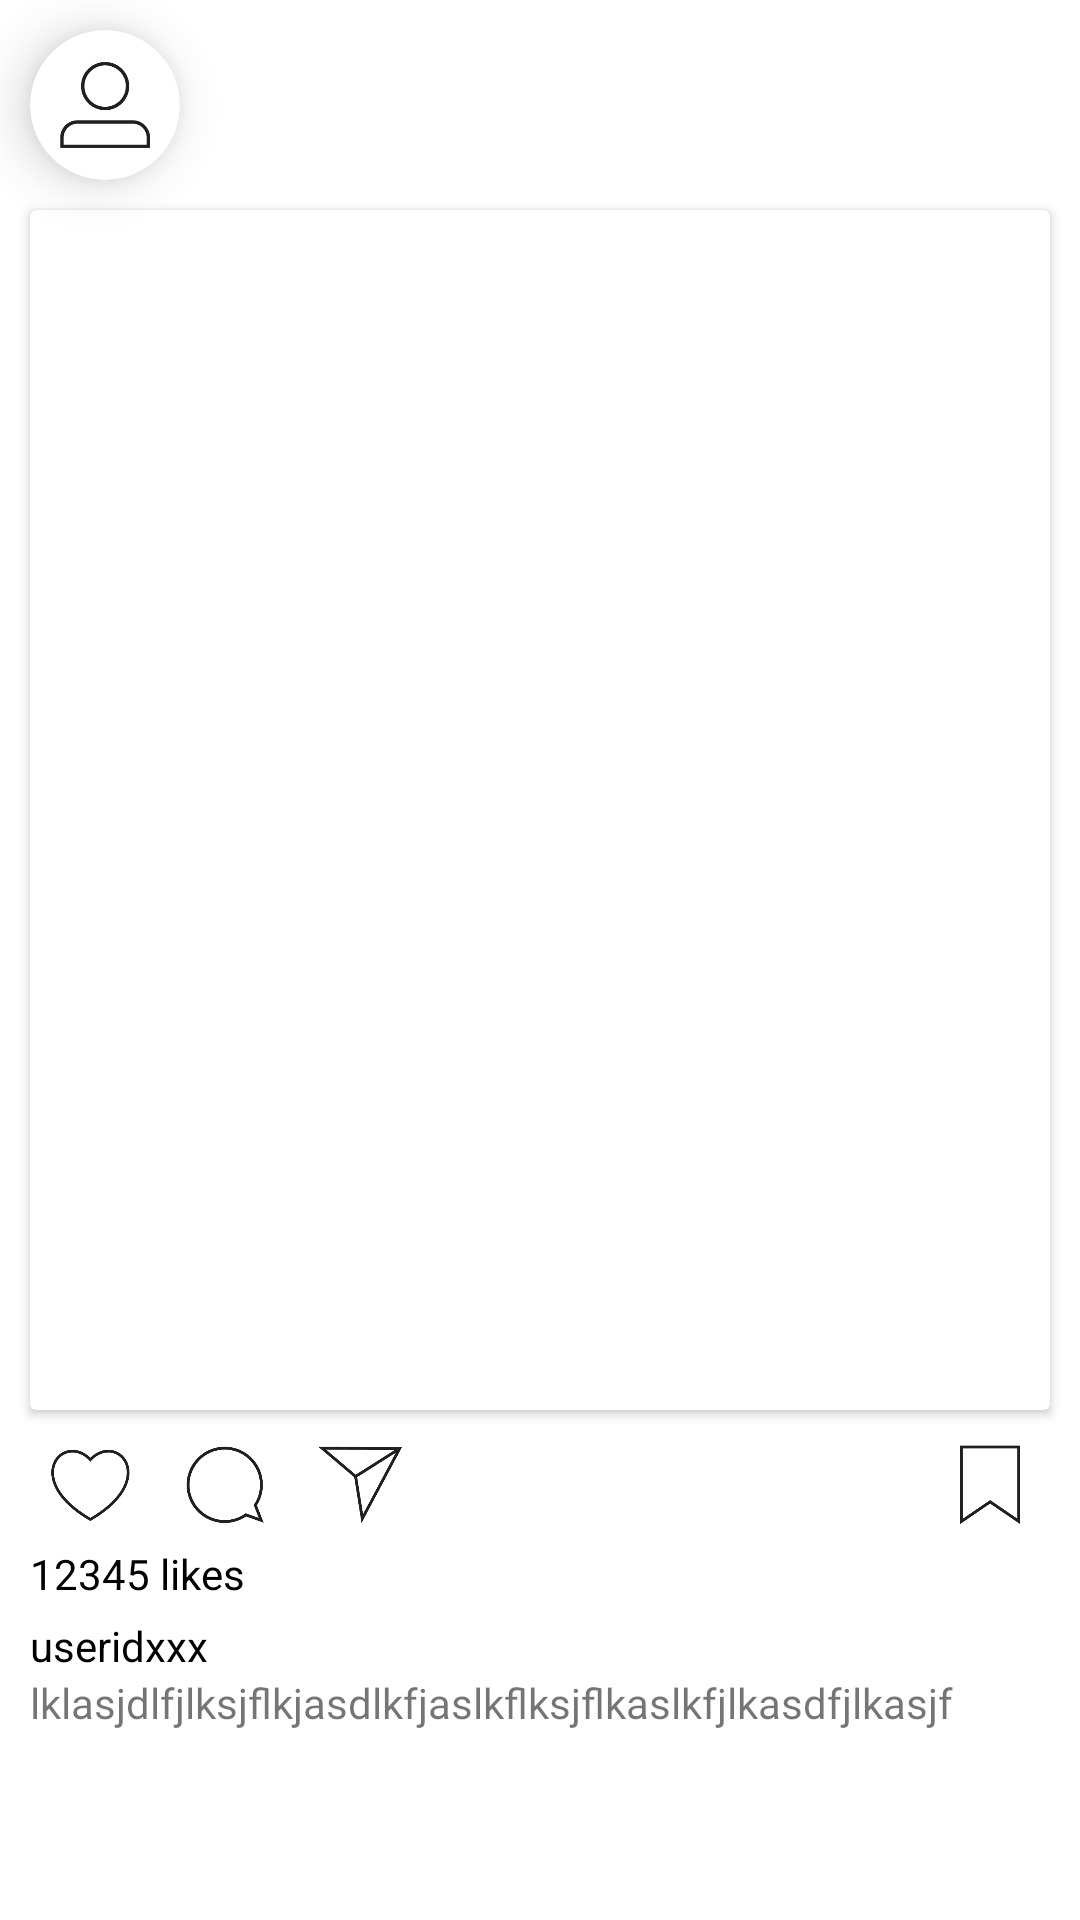

Icon click points for this 1080w x 1920h phone screenshot, format [x,y]:
coment: [225,1484]
person icontwo: [105,105]
share: [360,1484]
